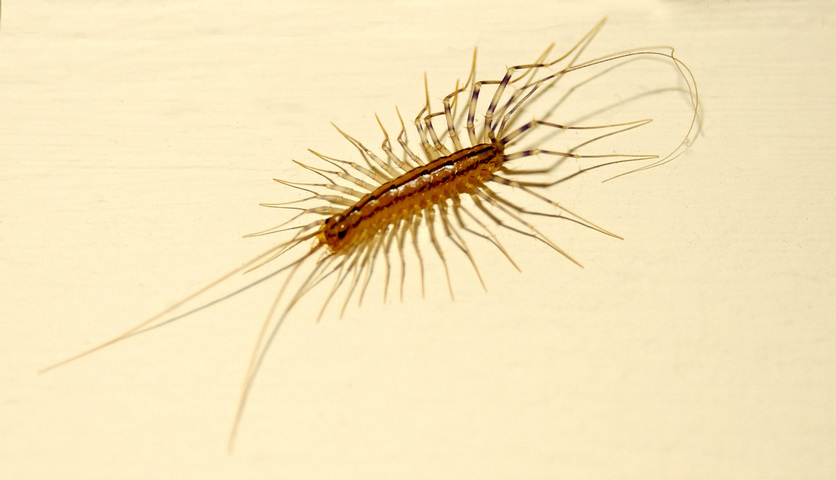centipede: (244, 46, 674, 333)
